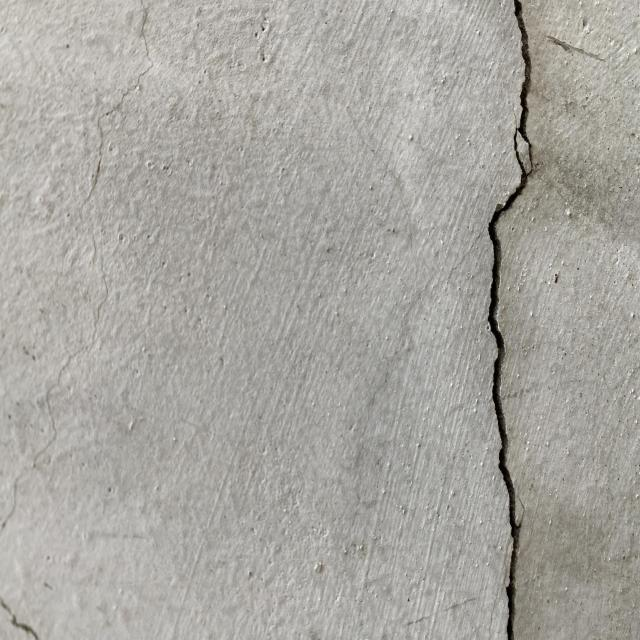SurfaceCrack: (438, 1, 576, 640)
